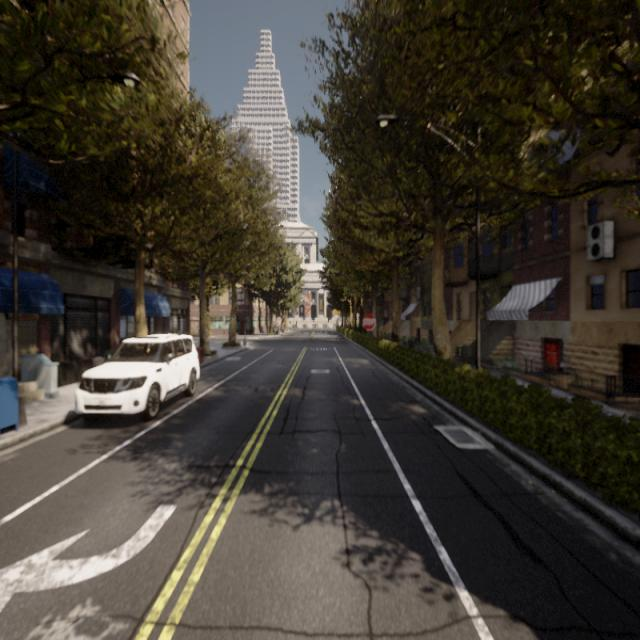stop sign: (360, 309, 377, 333)
